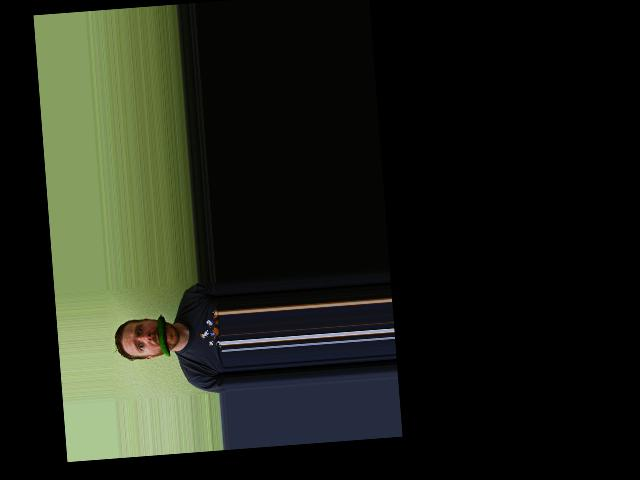cucumber: (157, 314, 171, 357)
